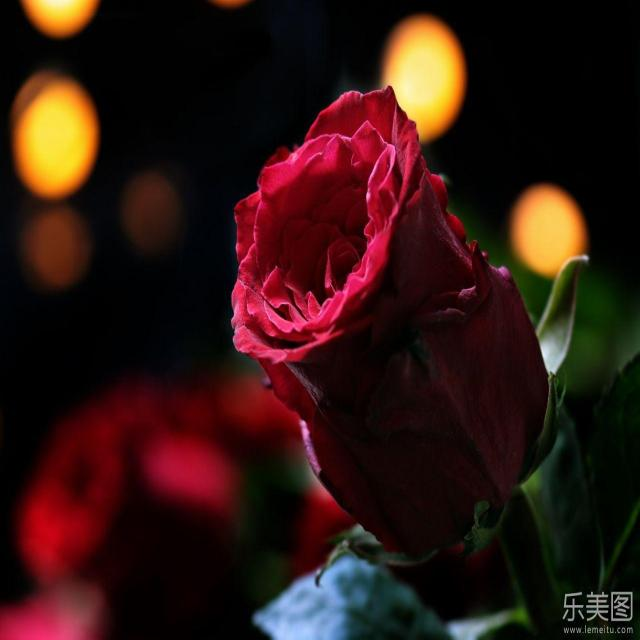other: (223, 136, 475, 349), (385, 32, 460, 142), (26, 83, 92, 189), (516, 186, 580, 270)
